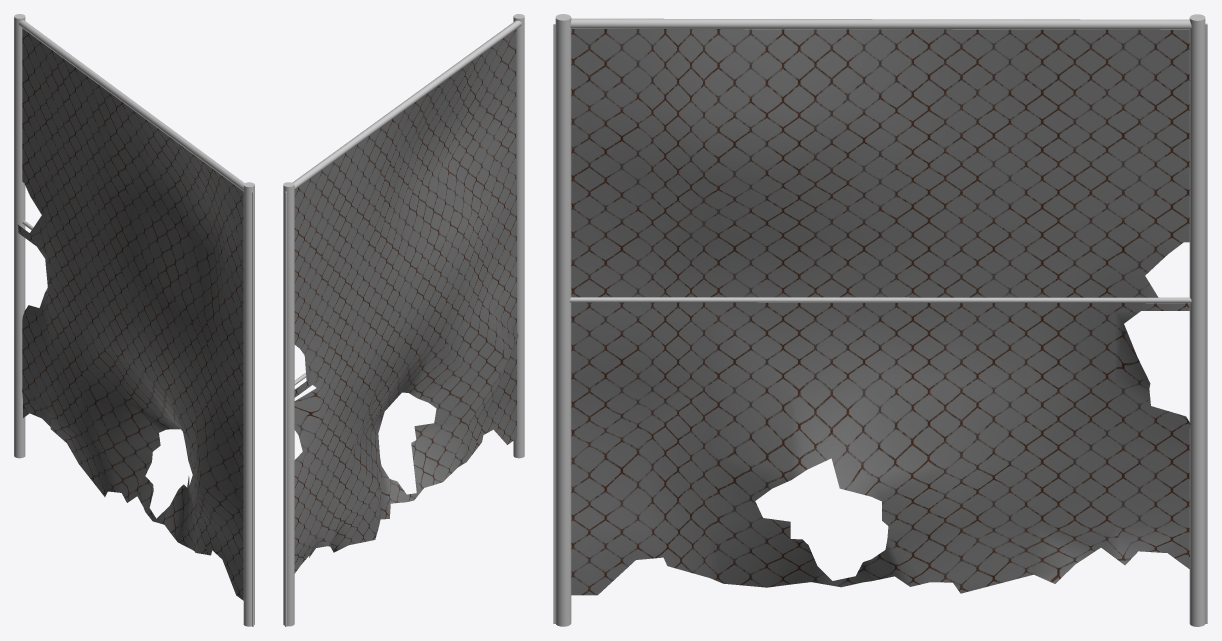
File: SM_WireFence_C.fbx
3 renders of one model, left to right at view 1: azimuth 30°, elevation 25°; view 2: azimuth 150°, elevation 25°; view 3: azimuth 270°, elevation 25°, orthographic. The views are drawn at different scales.
Parts seen in each view (by area): view 1: SM_WireFence_C_LOD0; view 2: SM_WireFence_C_LOD0; view 3: SM_WireFence_C_LOD0.
Boxes of the visible parts, <box> form: SM_WireFence_C_LOD0: <box>14,14,254,626</box>; SM_WireFence_C_LOD0: <box>283,14,524,626</box>; SM_WireFence_C_LOD0: <box>553,14,1207,626</box>.
Size of the model in its own units: 37.33 by 300 by 307.
2 materials, 1 textured.
